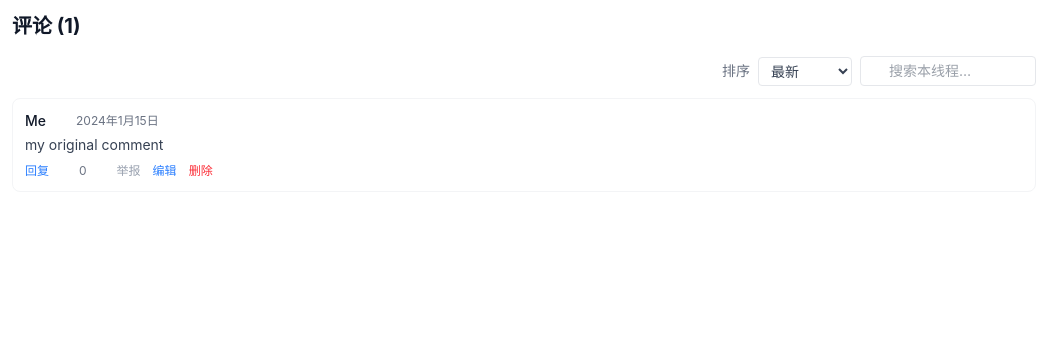
Scenario: CommentList › Comment edit/delete by author (DEC-096, TASK-160) › edits content and shows an edited marker
Step 1. Click the button with class "comment-edit" → click(165, 171), box [153, 163, 177, 179]
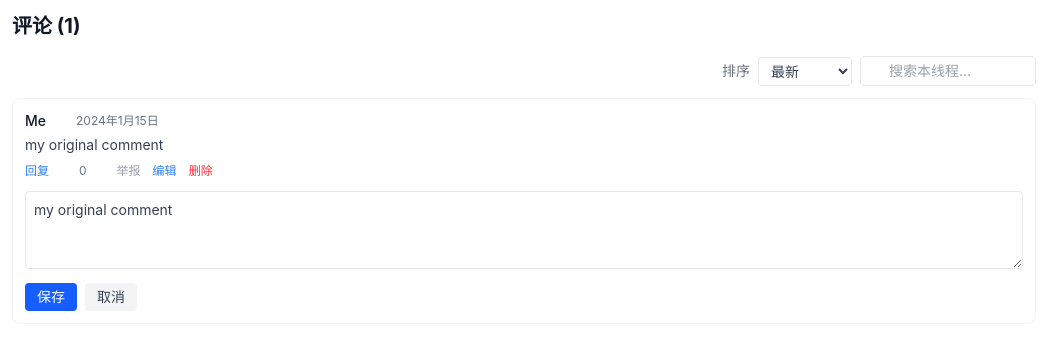
expect the text box named "编辑你的评论" is shown: met
Step 2. Replace the text in the text box named "编辑你的评论" with "my edited body" → (524, 230), box [25, 191, 1023, 269]
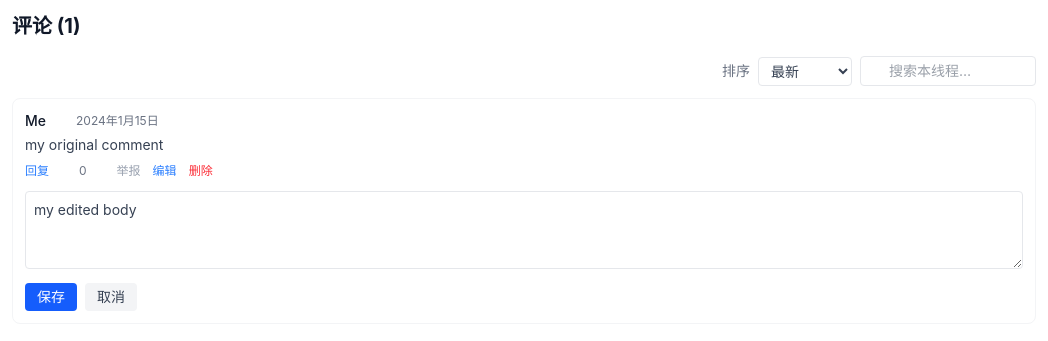
expect the button "保存" is shown: met
Step 3. Click the button "保存" → click(51, 297), box [25, 283, 77, 311]
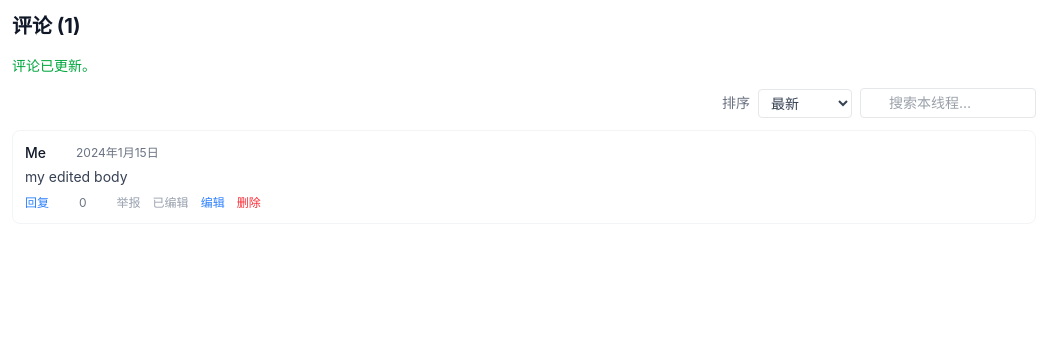
expect the text "my edited body" is shown: met, box [25, 168, 128, 185]
expect the text "已编辑" is shown: met, box [153, 195, 189, 211]
